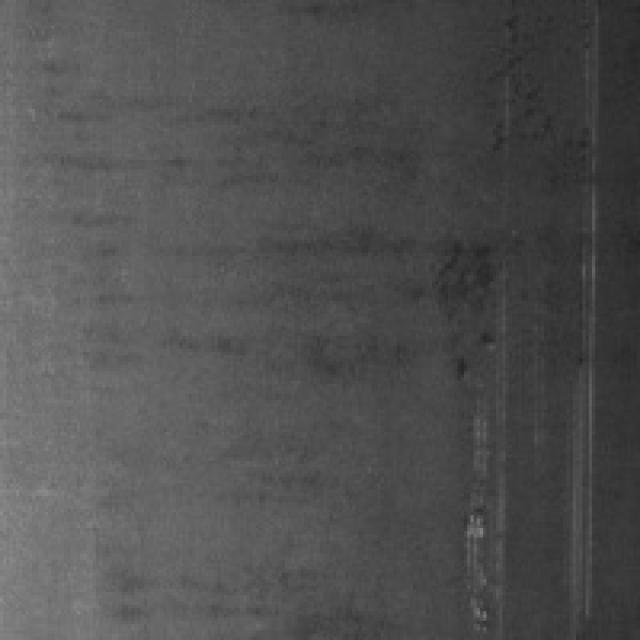scratches: (554, 205, 598, 624), (454, 390, 509, 624)
